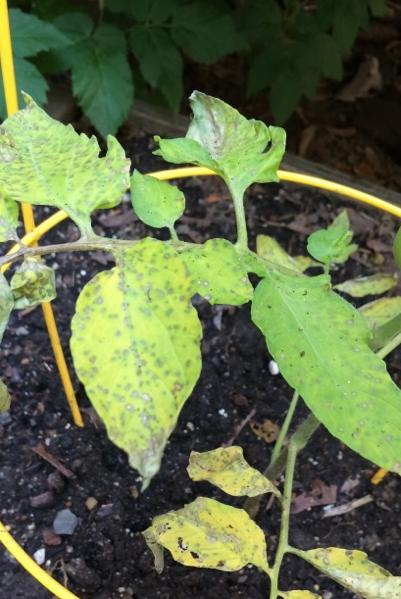Tomato Septoria leaf spot: (252, 238, 401, 488), (75, 221, 198, 499), (142, 72, 291, 207), (0, 87, 139, 222), (135, 503, 285, 584), (176, 226, 250, 307)
